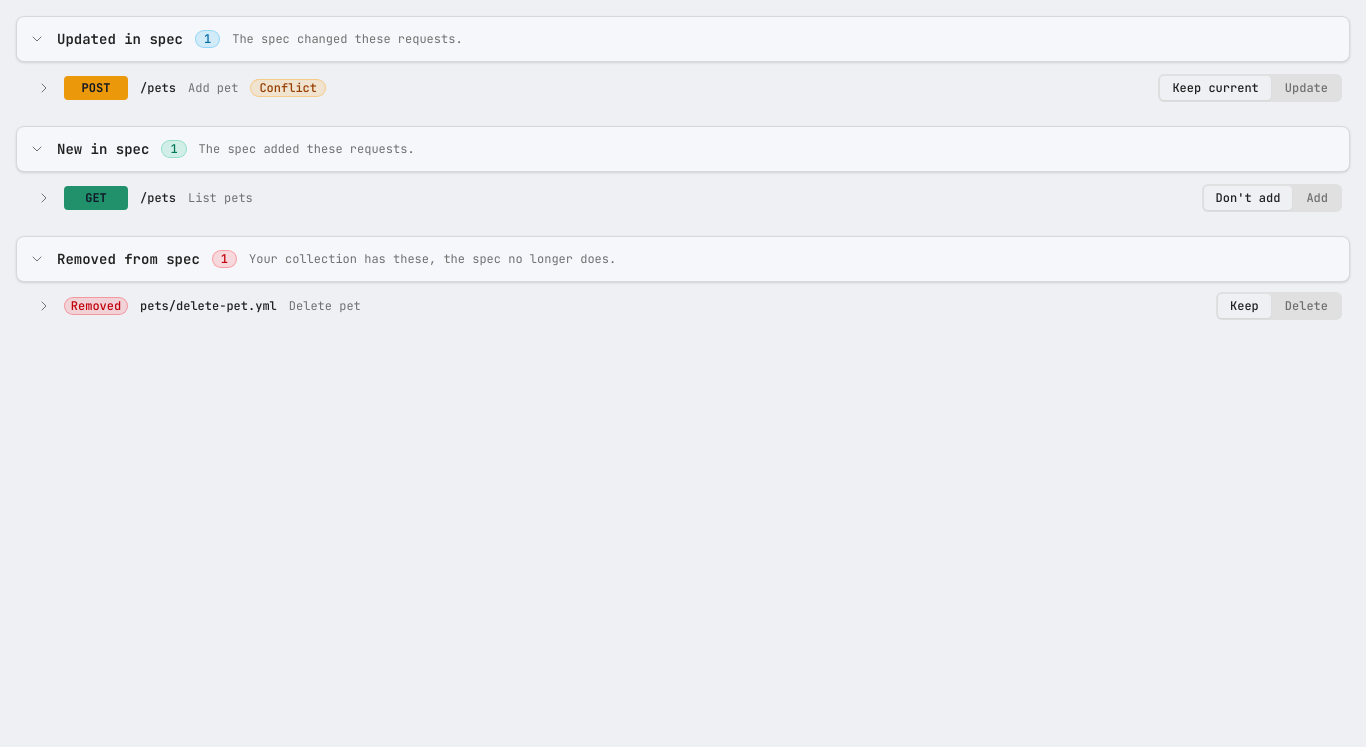
Test case: OpenApiSyncList › opens a row in place and closes it again
The width and height of the screenshot is (1366, 747).
Step 1. Click the button with aria-label "Show details of Add pet" → coordinates (96, 88), box [24, 72, 1150, 104]
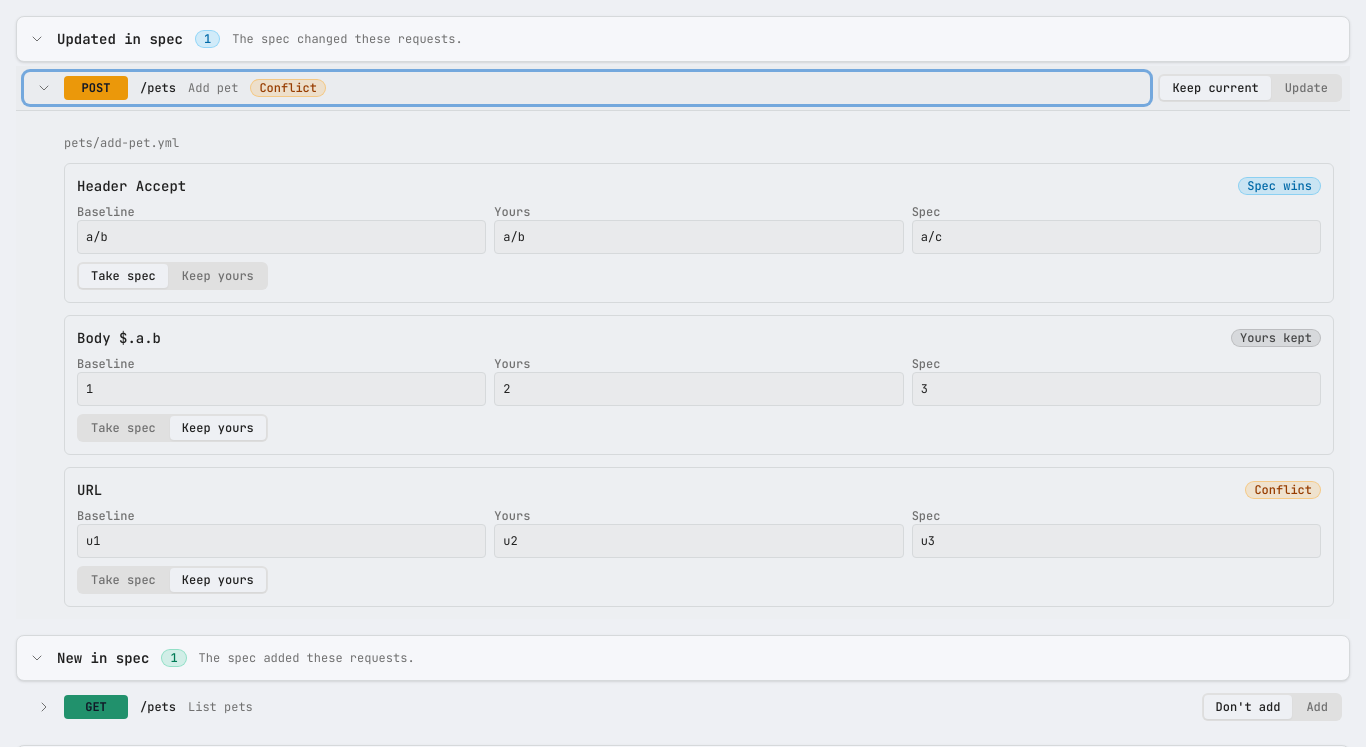
Check: the text "Header Accept" is shown, box [77, 176, 186, 196]
Step 2. Click the button with aria-label "Hide details of Add pet" → coordinates (96, 88), box [24, 72, 1150, 104]
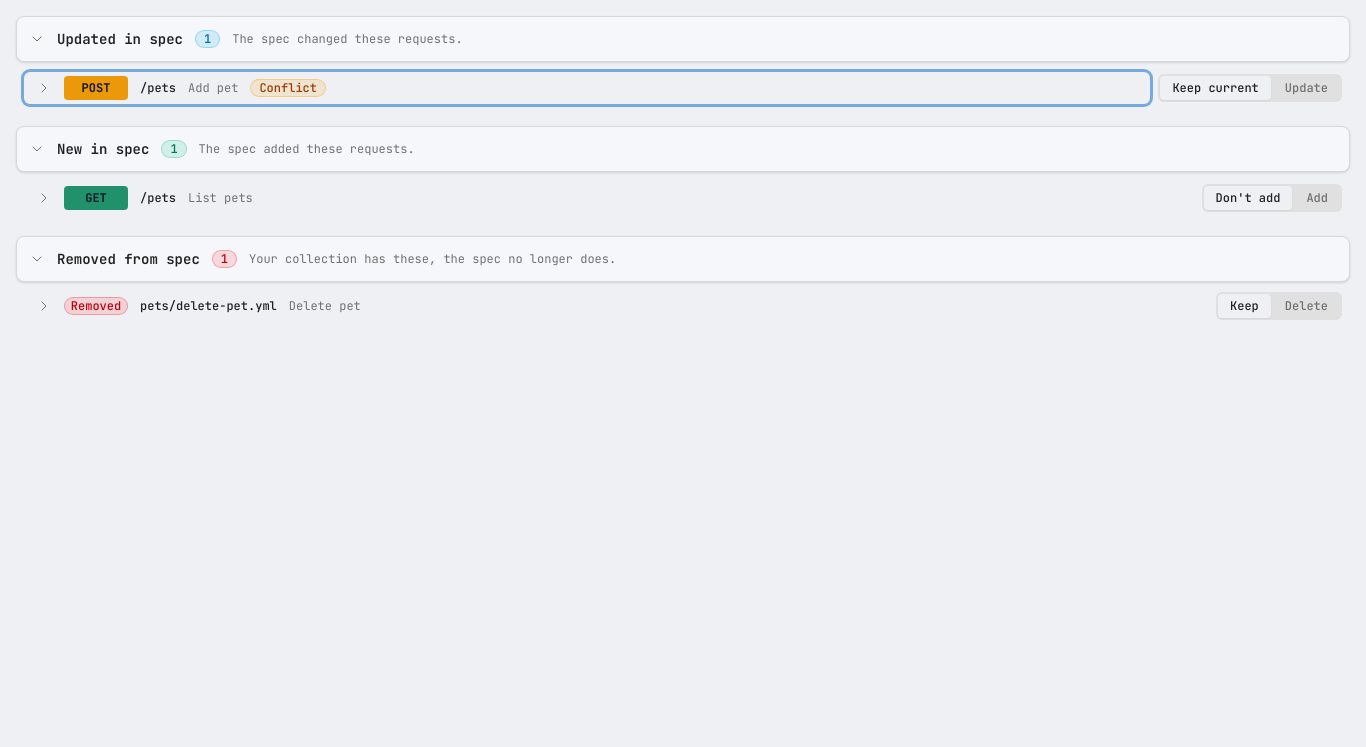
Check: the text "Header Accept" is gone
